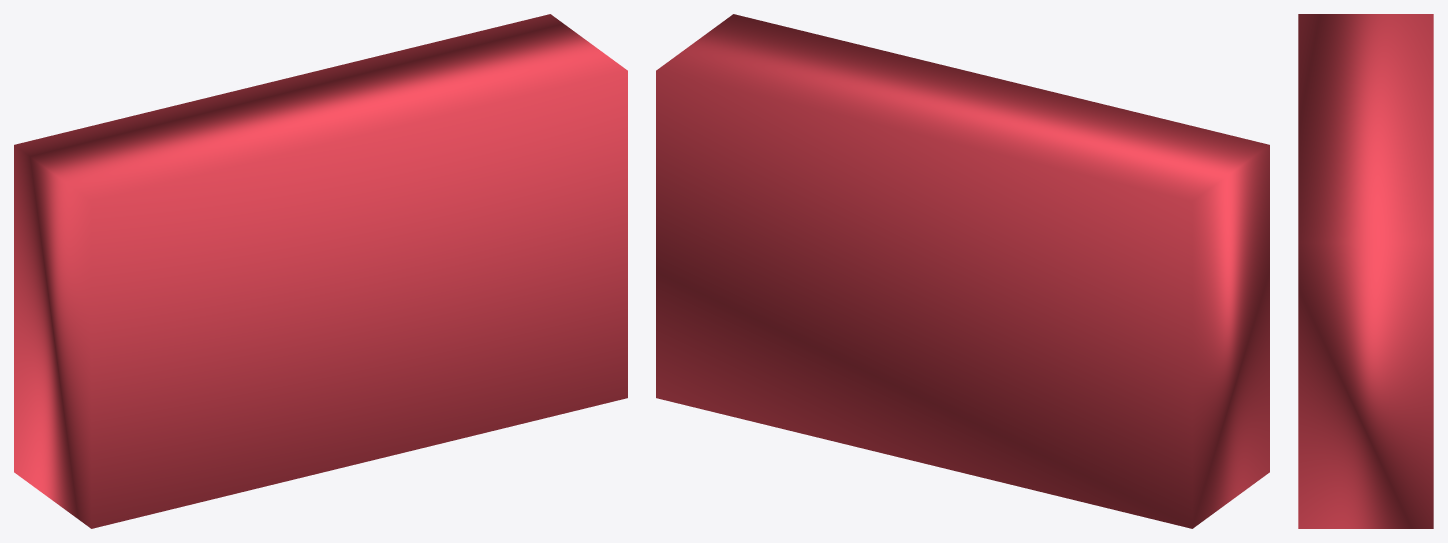
The model's file is HATCH_FIA_Battery_Cutoff_T_Handle.glb.
The picture shows the model from 3 angles, left to right: view 1: azimuth 30°, elevation 25°; view 2: azimuth 150°, elevation 25°; view 3: azimuth 270°, elevation 25°; orthographic projection. The views are drawn at different scales.
Parts seen in each view (by area): view 1: HATCH_FIA_Battery_Cutoff_T_Handle; view 2: HATCH_FIA_Battery_Cutoff_T_Handle; view 3: HATCH_FIA_Battery_Cutoff_T_Handle.
Part boxes in pixels (x1=…): HATCH_FIA_Battery_Cutoff_T_Handle: x1=14, y1=14, x2=627, y2=528; HATCH_FIA_Battery_Cutoff_T_Handle: x1=656, y1=14, x2=1269, y2=528; HATCH_FIA_Battery_Cutoff_T_Handle: x1=1298, y1=14, x2=1433, y2=528.
Size of the model in its own units: 0.06 by 0.035 by 0.015.
